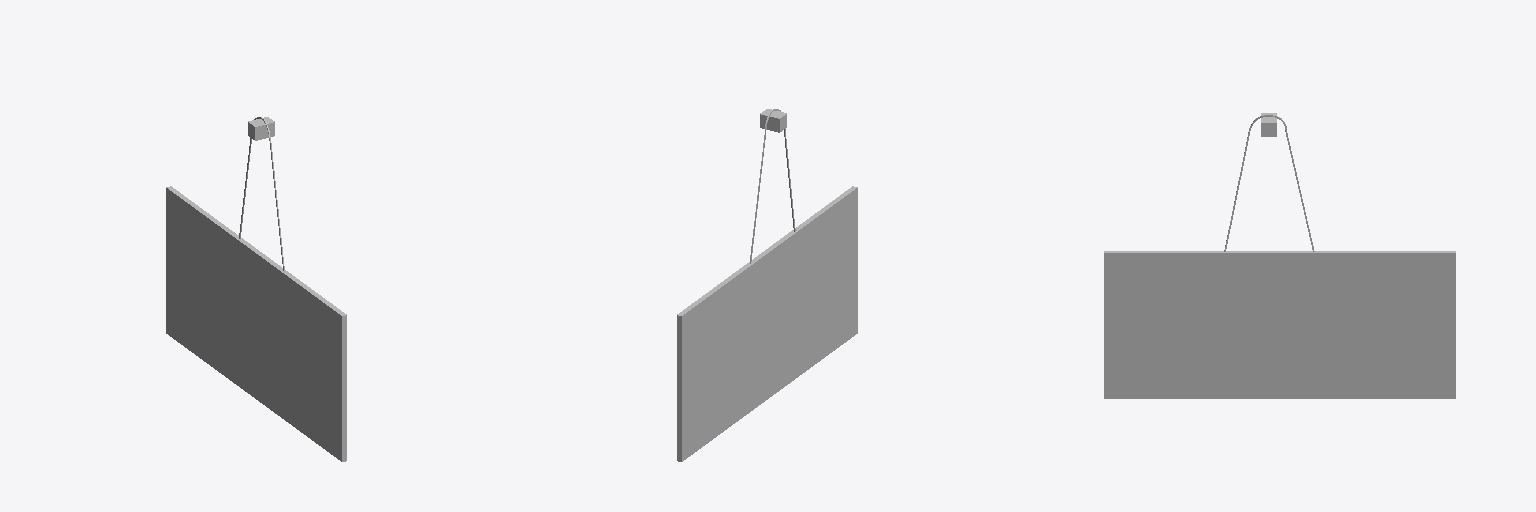
The model's file is ShopSign_Blockout.obj.
The picture shows the model from 3 angles: view 1: azimuth 30°, elevation 25°; view 2: azimuth 150°, elevation 25°; view 3: azimuth 270°, elevation 25°; orthographic projection.
Visible parts, largest first — view 1: Sign pCube15; view 2: Sign pCube15; view 3: Sign pCube15, pCube20 Sign.
Part boxes in pixels (x1,y1,x2,y2): Sign pCube15: (166, 186, 346, 461); Sign pCube15: (677, 186, 857, 461); Sign pCube15: (1104, 251, 1455, 398); pCube20 Sign: (1224, 115, 1314, 251).
Size of the model in its own units: 9.67 by 130 by 146.